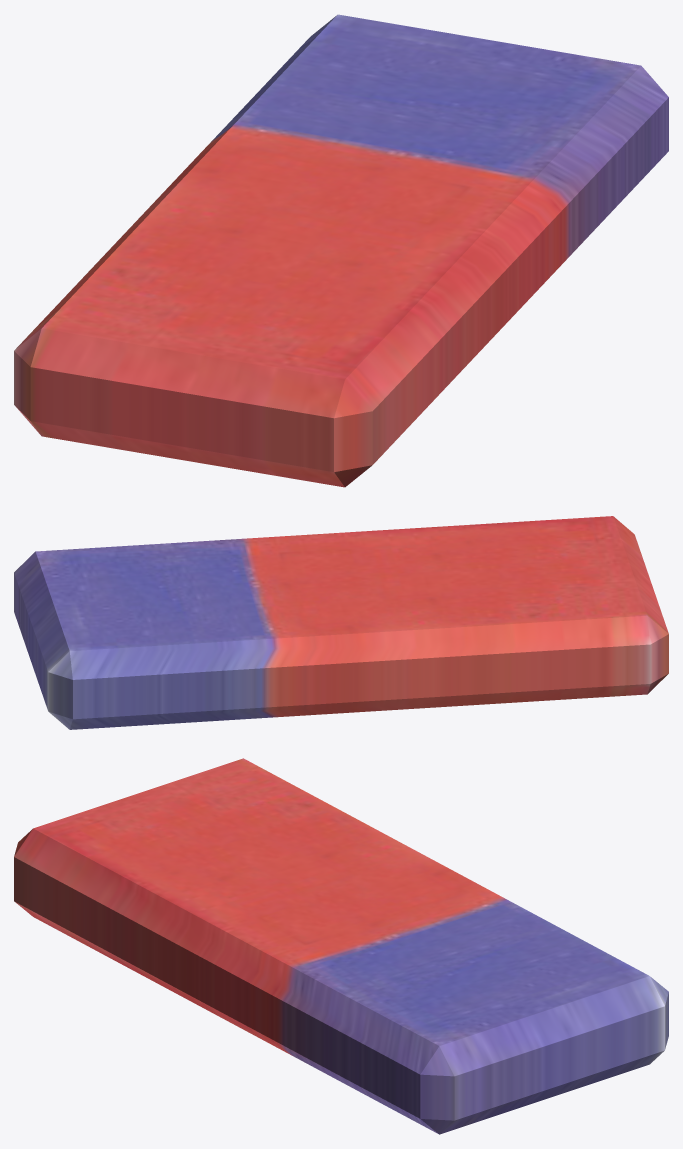
File: gum.dae
3 views of the same model, one above another, from view 1: azimuth 30°, elevation 25°; view 2: azimuth 150°, elevation 25°; view 3: azimuth 270°, elevation 25° (orthographic). The views are drawn at different scales.
Visible parts, largest first — view 1: pCube1; view 2: pCube1; view 3: pCube1.
Part boxes in pixels (x1,y1,x2,y2): pCube1: (14, 14, 668, 487); pCube1: (14, 516, 668, 729); pCube1: (14, 758, 668, 1134).
Bounding box in the file's own units: 13.1 × 1.78 × 11.93.
